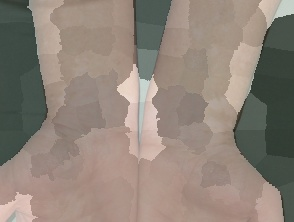vitiligo: (130, 0, 294, 218), (11, 0, 139, 187)
